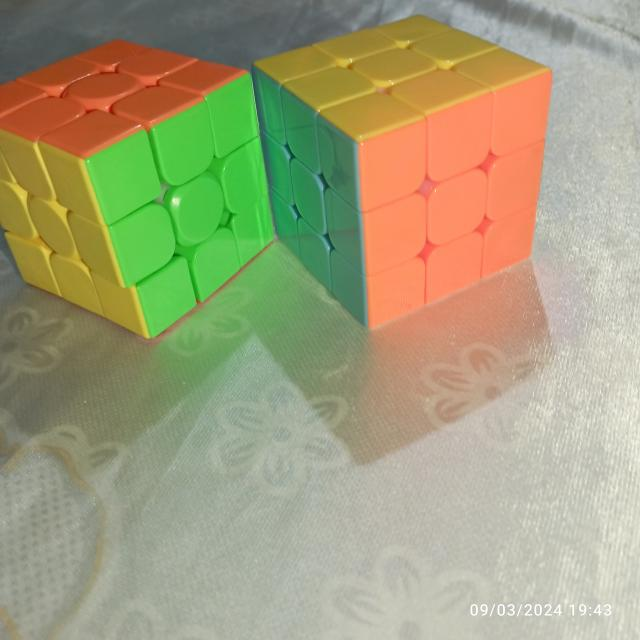Rub: (248, 9, 554, 332), (0, 35, 279, 343)
